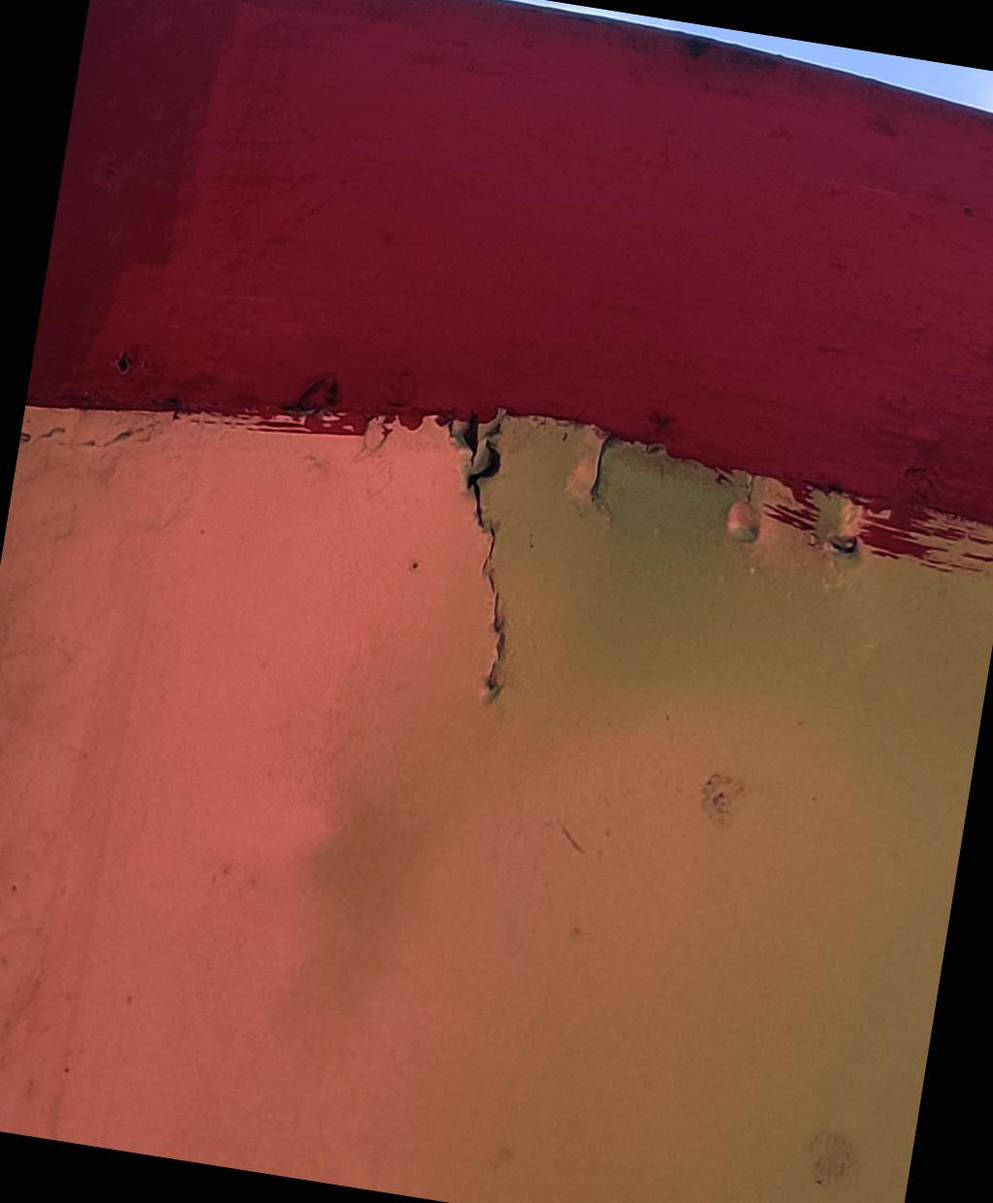crack: (376, 391, 572, 743), (549, 403, 647, 543)
